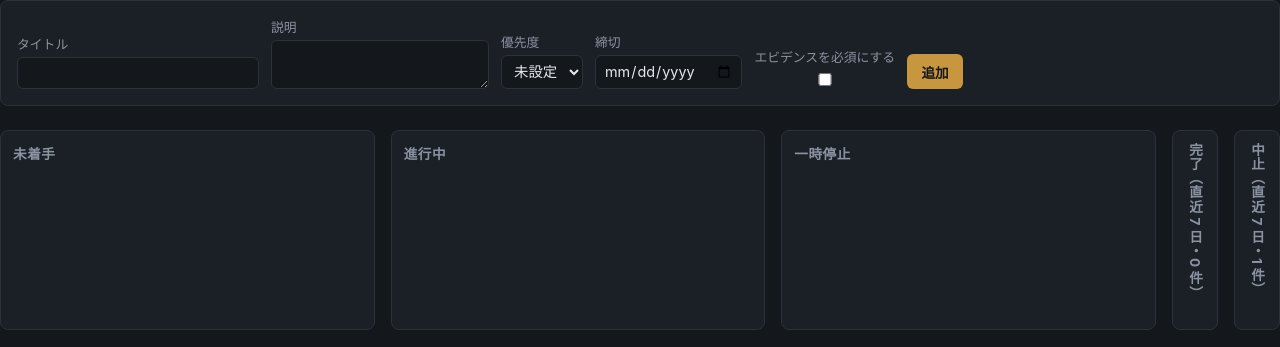
Test: TaskBoard › 完了/中止 列の直近ウィンドウ (#428) › does not use completed_at for the 中止 column (AC-10)
This screenshot has width=1280, height=347.
Click the button "中止（直近 7 日・1 件）". click: (1257, 220)
box: left=1247, top=143, right=1267, bottom=296
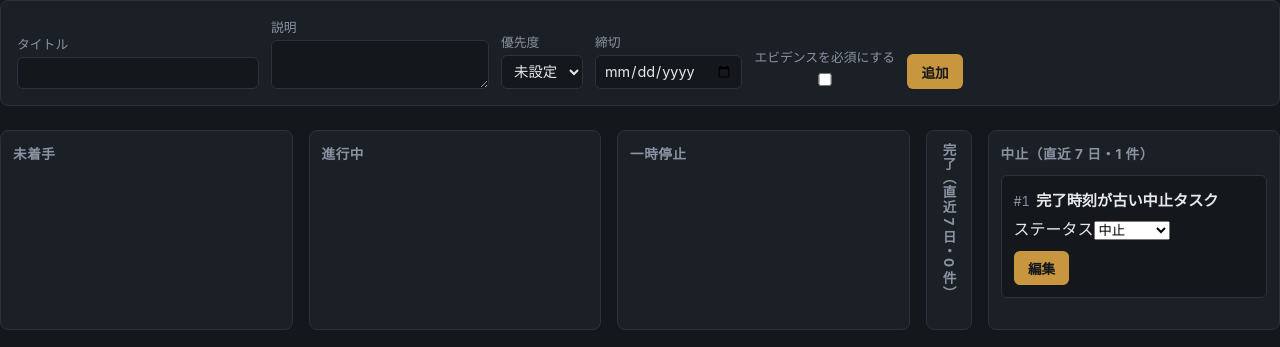
Expected: the button "中止（直近 7 日・1 件）" is expanded, left=1000, top=143, right=1267, bottom=163
Expected: the heading "完了時刻が古い中止タスク" is shown, left=1036, top=188, right=1219, bottom=210
